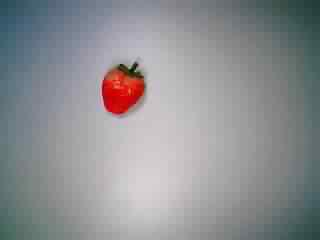strawberry: (92, 53, 152, 121)
